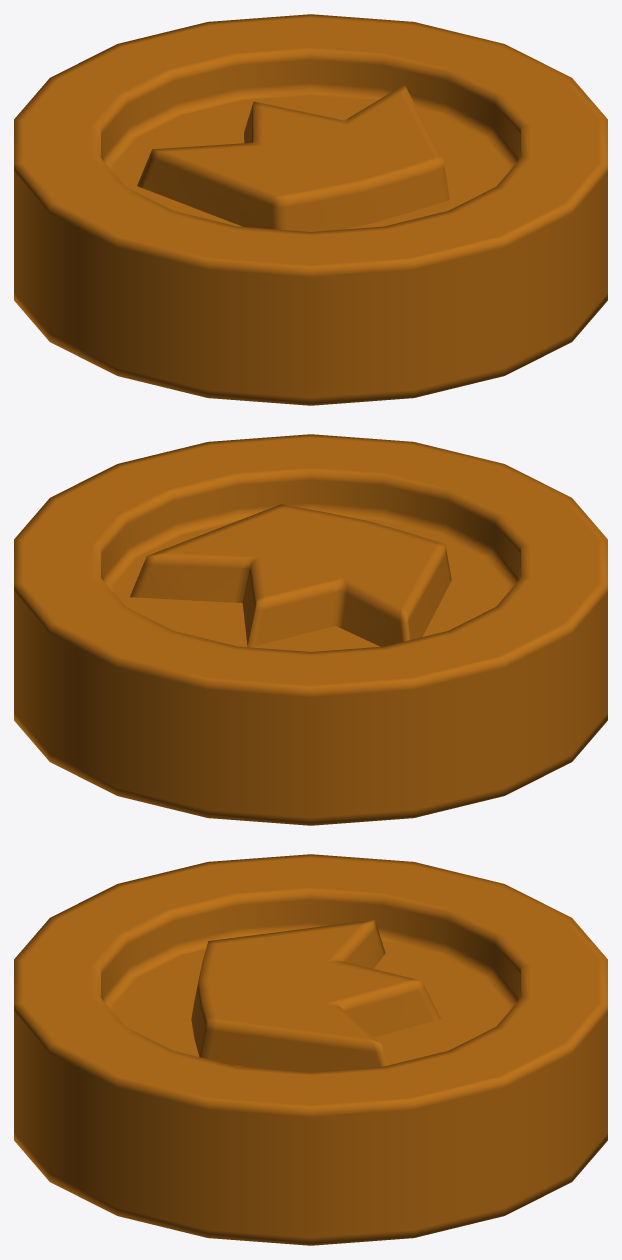
File: Coin.fbx
3 views of the same model, one above another, from view 1: azimuth 30°, elevation 25°; view 2: azimuth 150°, elevation 25°; view 3: azimuth 270°, elevation 25° (orthographic).
Parts seen in each view (by area): view 1: Cylinder003; view 2: Cylinder003; view 3: Cylinder003.
Boxes of the visible parts, left/top/right/bottom form: Cylinder003: left=14, top=14, right=607, bottom=405; Cylinder003: left=14, top=434, right=607, bottom=825; Cylinder003: left=14, top=854, right=607, bottom=1245.
Bounding box in the file's own units: 100 × 25 × 98.48.
